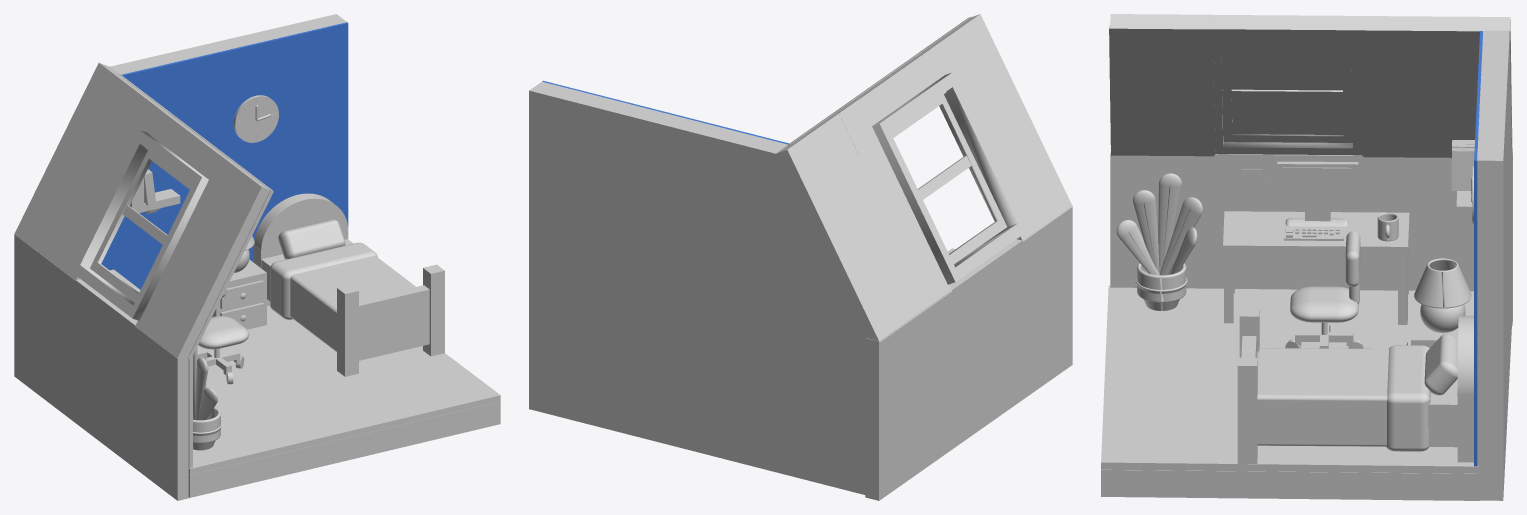
3 renders of one model, left to right at view 1: azimuth 30°, elevation 25°; view 2: azimuth 150°, elevation 25°; view 3: azimuth 270°, elevation 25°, orthographic. The views are drawn at different scales.
Parts seen in each view (by area): view 1: Wall, Cube 77, Floor Surface, Cube 79, Cube 78, Concrete, Mar_Window.001, Cube 15.002, Cube 12, Cube 80, Cylinder, Shape (+16 smaller); view 2: Shape, Cube 77, Cube 79, Cube 78, Mar_Window.001, Cube 80, Mar_Window, Cube 46.001; view 3: Floor Surface, Cube, Shape, Cube 4, Cube 3, Cube 15.002, Concrete, Rectangle 20, Cube 8, Cube 17, Cube 5, Mar_Window.001 (+36 smaller).
Boxes of the visible parts, x1,y1,x2,y2 form: Wall: (101,22,348,289); Cube 77: (14,233,189,500); Floor Surface: (188,305,500,470); Cube 79: (14,63,167,280); Cube 78: (135,155,270,358); Concrete: (188,401,500,497); Mar_Window.001: (71,130,208,320); Cube 15.002: (290,255,415,351); Cube 12: (359,285,429,360); Cube 80: (124,96,226,184); Cylinder: (254,193,348,251); Shape: (110,14,346,74); Shape: (529,81,865,494); Cube 77: (865,205,1072,500); Cube 79: (775,99,951,342); Cube 78: (922,14,1072,241); Mar_Window.001: (872,72,1028,284); Cube 80: (839,49,946,153); Mar_Window: (890,94,1007,264); Cube 46.001: (918,155,971,199); Floor Surface: (1101,285,1479,467); Cube: (1110,152,1473,291); Shape: (1477,30,1511,500); Cube 4: (1361,26,1484,157); Cube 3: (1109,25,1214,156); Cube 15.002: (1256,348,1388,446); Concrete: (1101,469,1479,500); Rectangle 20: (1222,57,1343,135); Cube 8: (1223,211,1409,253); Cube 17: (1386,345,1430,451); Cube 5: (1165,25,1361,49); Mar_Window.001: (1214,56,1361,155).
Bounding box in the file's own units: 2.86 × 2.47 × 2.63.
